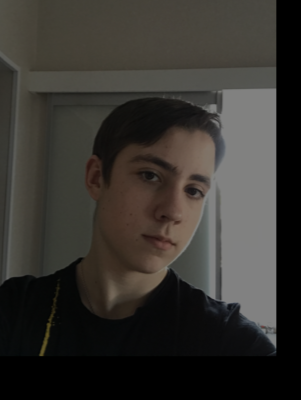without_mask: (116, 150, 214, 276)
